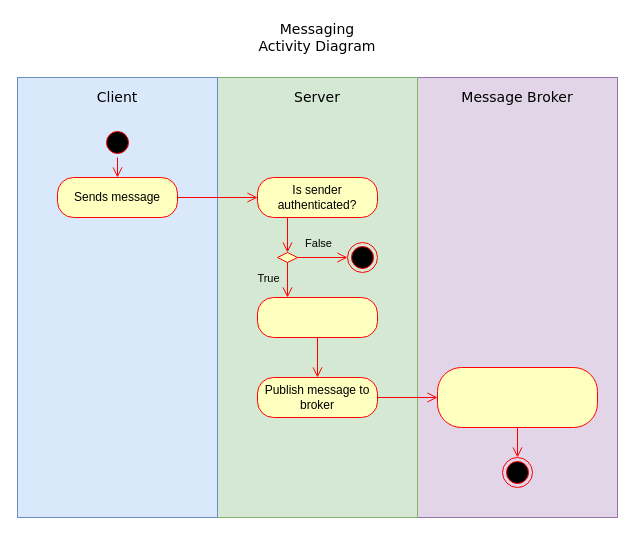
The diagram is 635 pixels wide and 535 high, and some of its shapes have lost their labels. Here are the shapes that lost their labels. From the top down, the centre of each, then its label:
At (317,317): "Save message to Database".
At (517,397): "Broadcasts message to the corresponding recipients based on topic".
